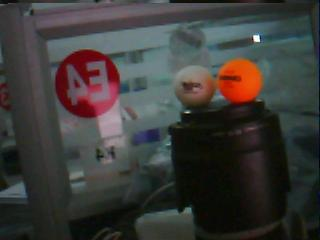oball: (219, 58, 262, 101)
